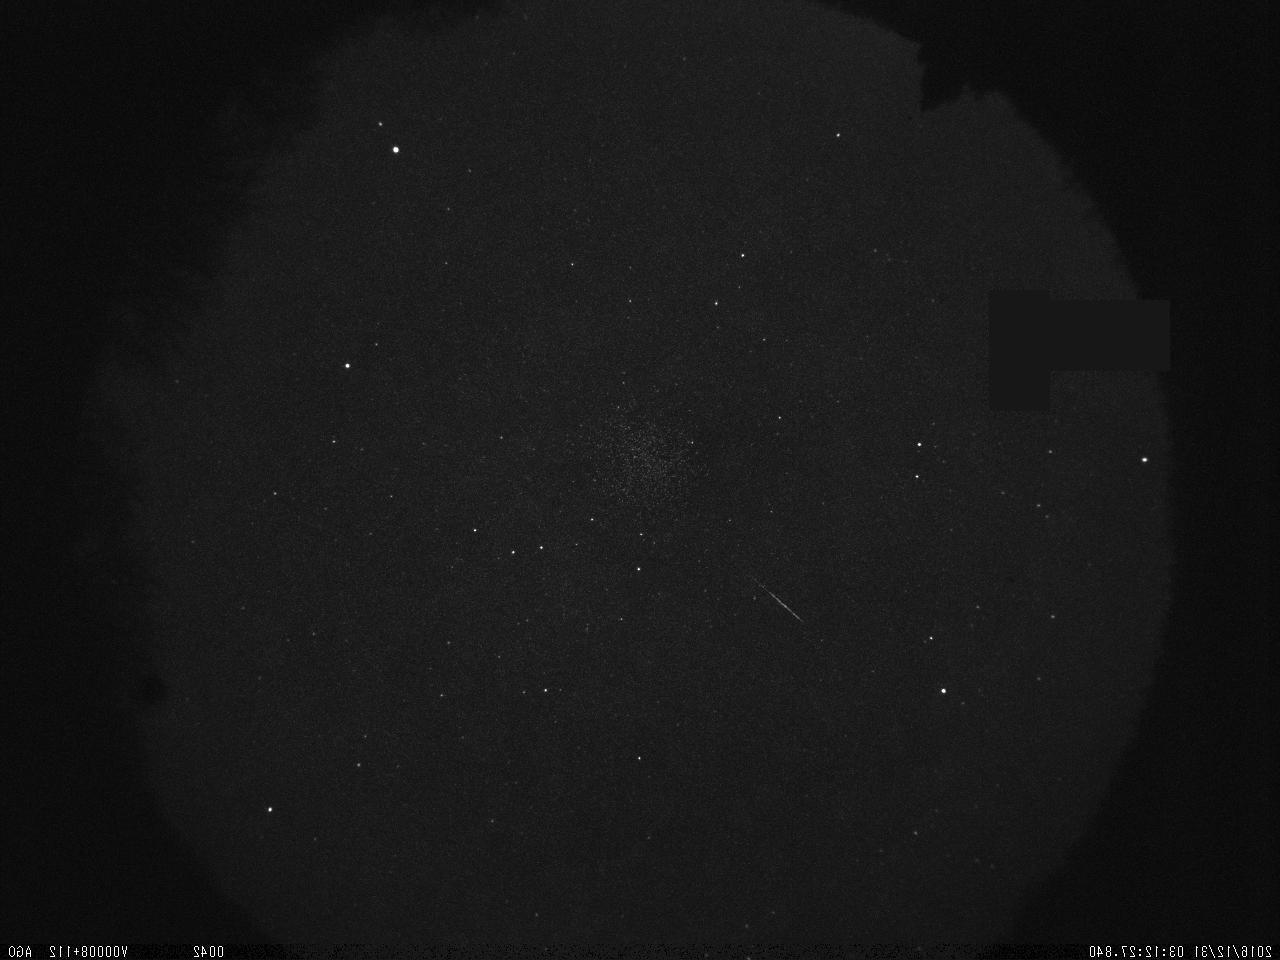meteor: (732, 572, 809, 623)
